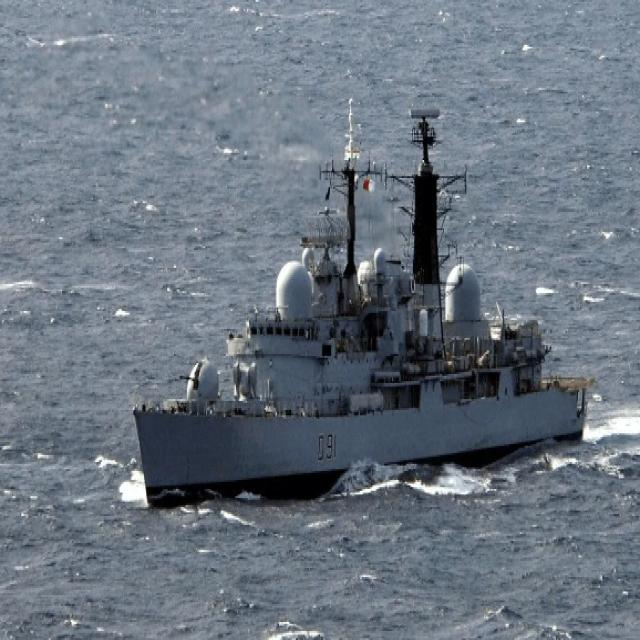navalvessels: (135, 93, 600, 515)
